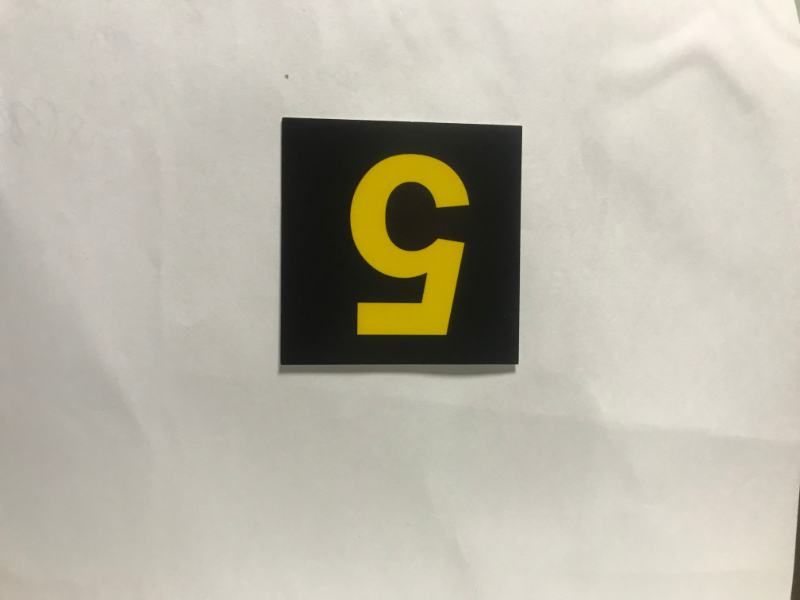Five-10: (288, 127, 515, 359)
